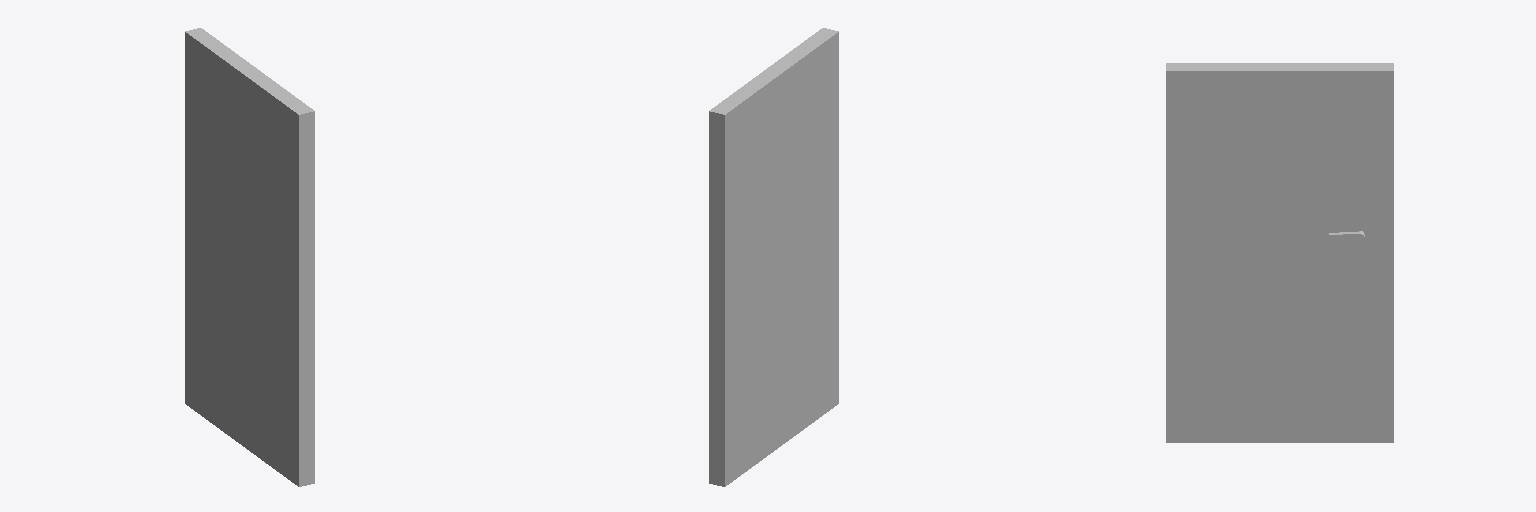
File: portePlate.obj
3 views of the same model, side by side, from view 1: azimuth 30°, elevation 25°; view 2: azimuth 150°, elevation 25°; view 3: azimuth 270°, elevation 25° (orthographic).
Size of the model in its own units: 0.2078 by 2.64 by 1.47.